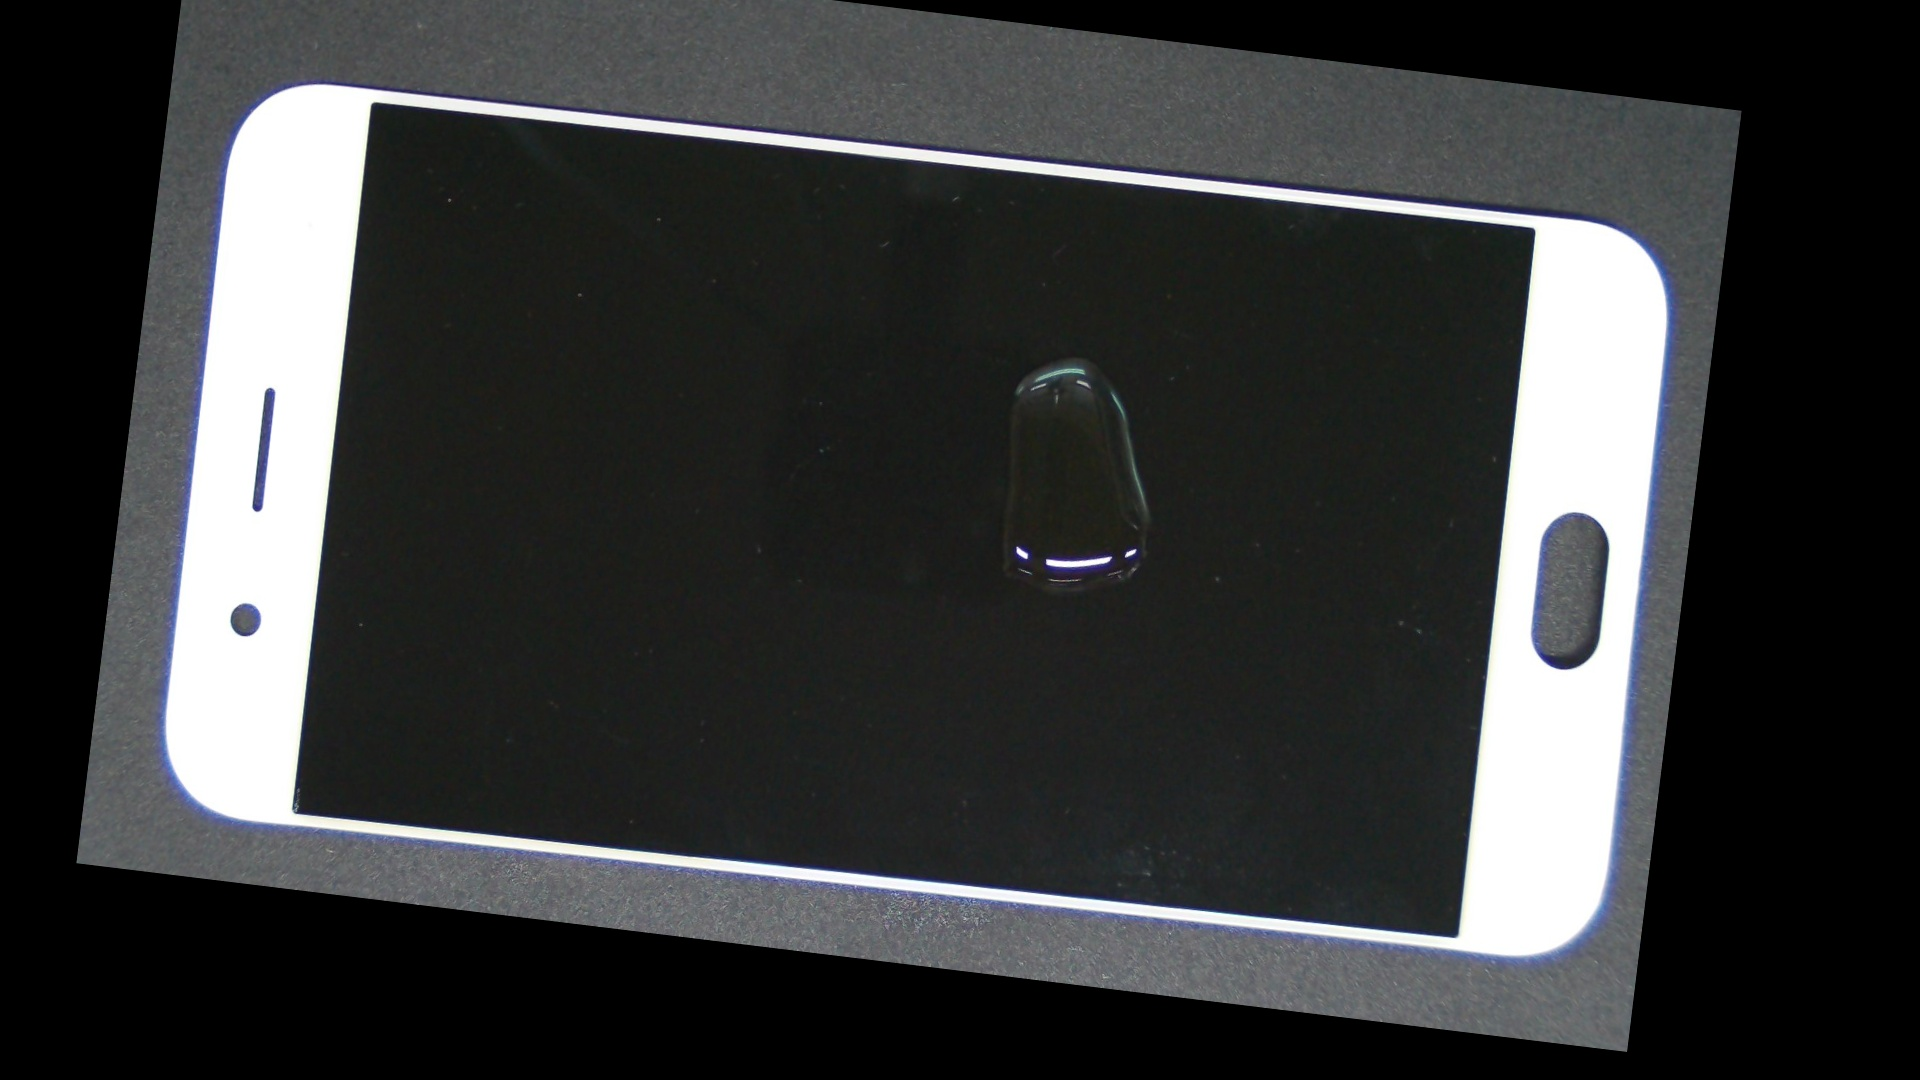oil: (597, 140, 1564, 576)
